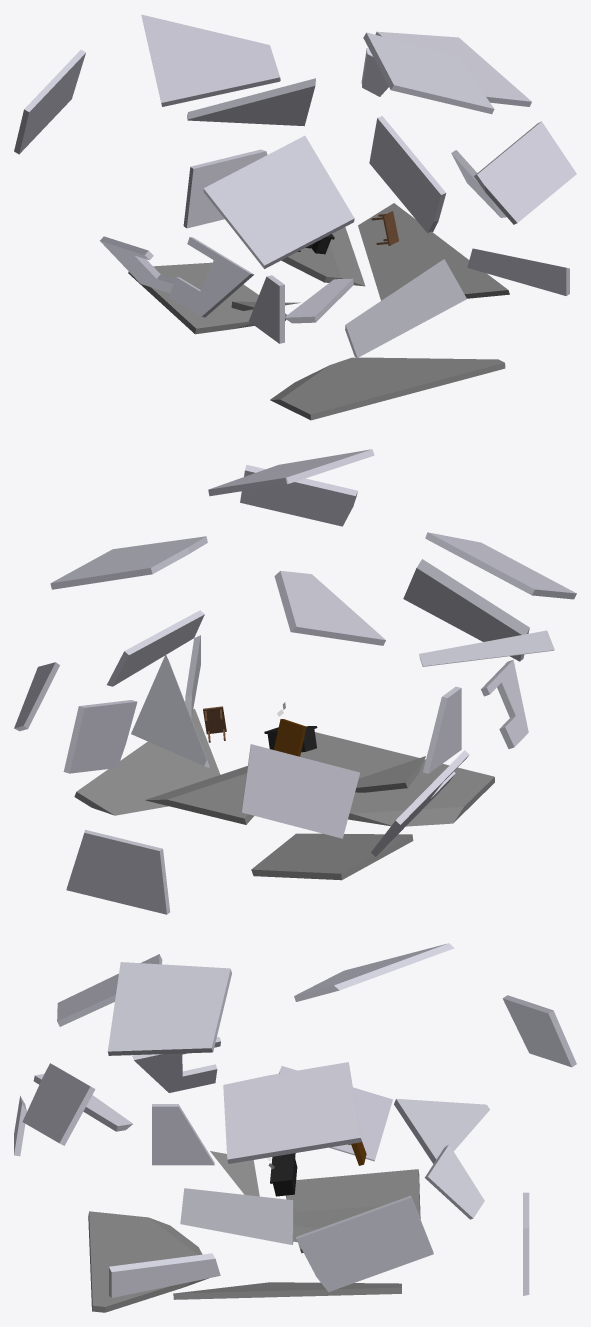
The model's file is finalLevel_destroyed.fbx.
The picture shows the model from 3 angles, top to bottom: view 1: azimuth 30°, elevation 25°; view 2: azimuth 150°, elevation 25°; view 3: azimuth 270°, elevation 25°; orthographic projection. The views are drawn at different scales.
Visible parts, largest first — view 1: Ceiling_cell.005, Ceiling_cell.001, Floor_cell, Floor_cell.001, Wall 3_cell, Ceiling_cell.002, Wall 3_cell.001, Wall 2_cell, Ceiling_cell.004, Floor_cell.004, Ceiling_cell.003, Wall 4_cell (+9 smaller); view 2: Wall 1_cell, Floor_cell, Wall 1_cell.001, Floor_cell.001, Floor_cell.004, Wall 3_cell.001, Ceiling_cell.001, Ceiling_cell.004, Wall 2_cell, Wall 3_cell, Ceiling_cell.003, Floor_cell.002 (+12 smaller); view 3: Ceiling_cell.003, Ceiling_cell.002, Wall 2_cell, Floor_cell, Wall 2_cell.001, Floor_cell.004, Ceiling_cell.004, Wall 3_cell, Wall 2_cell.002, Wall 4_cell.002, Floor_cell.001, Wall 1_cell (+11 smaller).
Boxes of the visible parts, x1,y1,x2,y2 form: Ceiling_cell.005: (203, 135, 354, 268); Ceiling_cell.001: (141, 14, 280, 106); Floor_cell: (270, 357, 505, 420); Floor_cell.001: (358, 203, 509, 300); Wall 3_cell: (474, 121, 576, 224); Ceiling_cell.002: (363, 32, 494, 114); Wall 3_cell.001: (345, 259, 466, 357); Wall 2_cell: (369, 116, 446, 232); Ceiling_cell.004: (187, 78, 315, 126); Floor_cell.004: (128, 262, 286, 334); Ceiling_cell.003: (375, 31, 531, 106); Wall 4_cell: (169, 237, 254, 317); Wall 1_cell: (241, 744, 359, 838); Floor_cell: (300, 732, 494, 826); Wall 1_cell.001: (66, 830, 170, 914); Floor_cell.001: (74, 708, 220, 815); Floor_cell.004: (251, 833, 413, 880); Wall 3_cell.001: (403, 559, 529, 661); Ceiling_cell.001: (274, 570, 385, 645); Ceiling_cell.004: (131, 654, 209, 767); Wall 2_cell: (63, 700, 137, 773); Wall 3_cell: (240, 464, 357, 526); Ceiling_cell.003: (50, 536, 207, 589); Floor_cell.002: (144, 766, 253, 824); Ceiling_cell.003: (223, 1062, 361, 1163); Ceiling_cell.002: (107, 962, 231, 1055); Wall 2_cell: (296, 1195, 433, 1292); Floor_cell: (88, 1211, 208, 1312); Wall 2_cell.001: (180, 1188, 293, 1244); Floor_cell.004: (286, 1169, 420, 1253); Ceiling_cell.004: (394, 1098, 489, 1163); Wall 3_cell: (22, 1063, 95, 1145); Wall 2_cell.002: (109, 1253, 220, 1297); Wall 4_cell.002: (152, 1104, 214, 1165); Floor_cell.001: (173, 1282, 401, 1299); Wall 1_cell: (502, 995, 576, 1067).
Bounding box in the file's own units: 1604 × 1316 × 2084.
7 materials, 1 textured.
